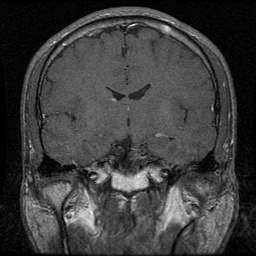pituitary: (87, 158, 170, 191)
